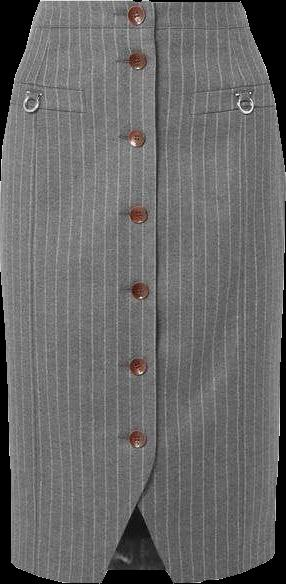Hemline: (8, 502, 279, 583)
Waistline: (26, 23, 253, 36), (36, 0, 242, 8)
